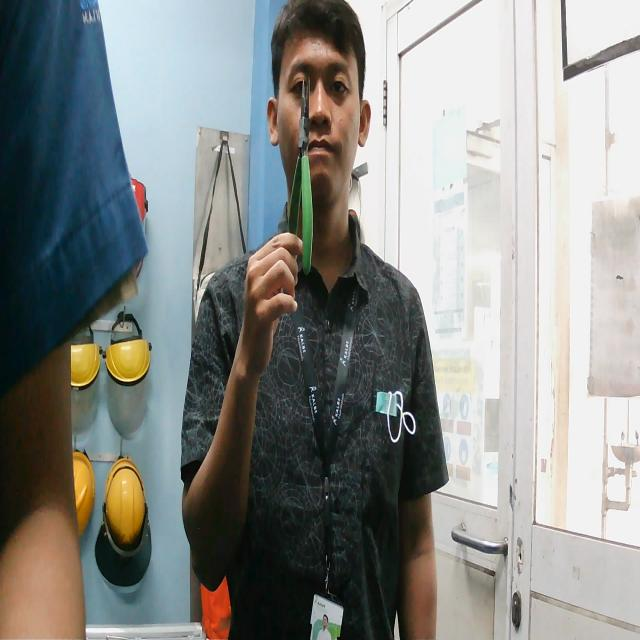tang_scun_hidrolik: (280, 69, 328, 285)
